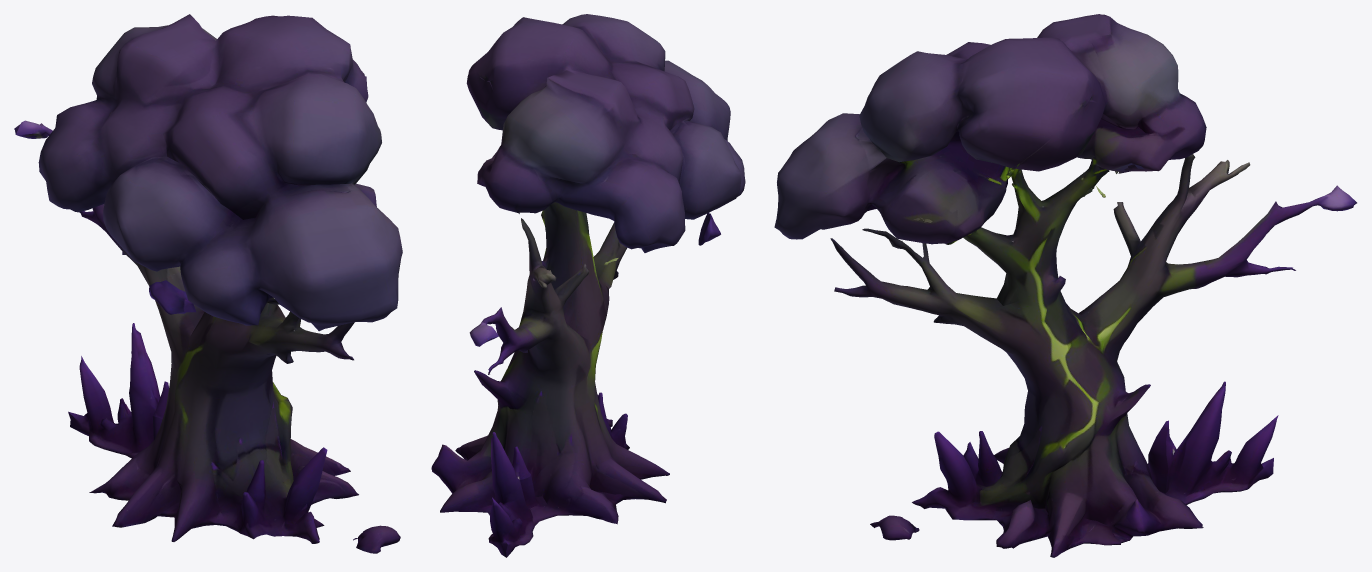
File: SM_Vegetacion_ArbolFantasiaPurpura_01.fbx
3 renders of one model, left to right at view 1: azimuth 30°, elevation 25°; view 2: azimuth 150°, elevation 25°; view 3: azimuth 270°, elevation 25°, orthographic. The views are drawn at different scales.
Parts seen in each view (by area): view 1: SM_Vegetacion_ArbolFantasiaPurpura_01; view 2: SM_Vegetacion_ArbolFantasiaPurpura_01; view 3: SM_Vegetacion_ArbolFantasiaPurpura_01.
Part boxes in pixels (left/top/right/bottom): SM_Vegetacion_ArbolFantasiaPurpura_01: left=14, top=14, right=402, bottom=553; SM_Vegetacion_ArbolFantasiaPurpura_01: left=431, top=14, right=745, bottom=557; SM_Vegetacion_ArbolFantasiaPurpura_01: left=774, top=14, right=1356, bottom=557.
Bounding box in the file's own units: 0.5313 × 0.8791 × 0.9892.
1 material, 1 textured.
